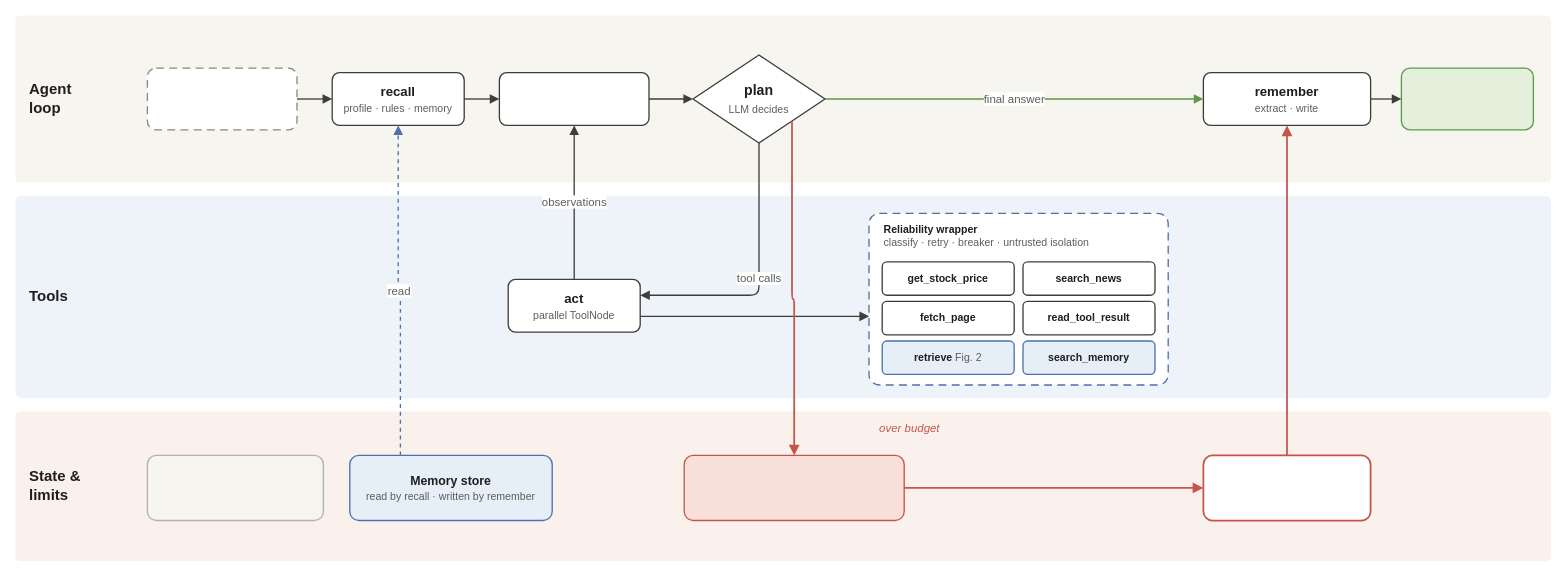
Some shapes in this 1566 by 576 pixel diagram are drawn without their labels. Each missing label, with the centre of its shape:
"Answer with [ref] citations" goes at pixel 1467 98.
"compress archive overflow rounds" goes at pixel 573 99.
"finalize forced answer, never empty" goes at pixel 1286 487.
"Postgres checkpoint every step · resumable · replayable" goes at pixel 235 487.
"Question" goes at pixel 221 98.
"Run budget cost · time · LLM calls · loops" goes at pixel 793 487.
